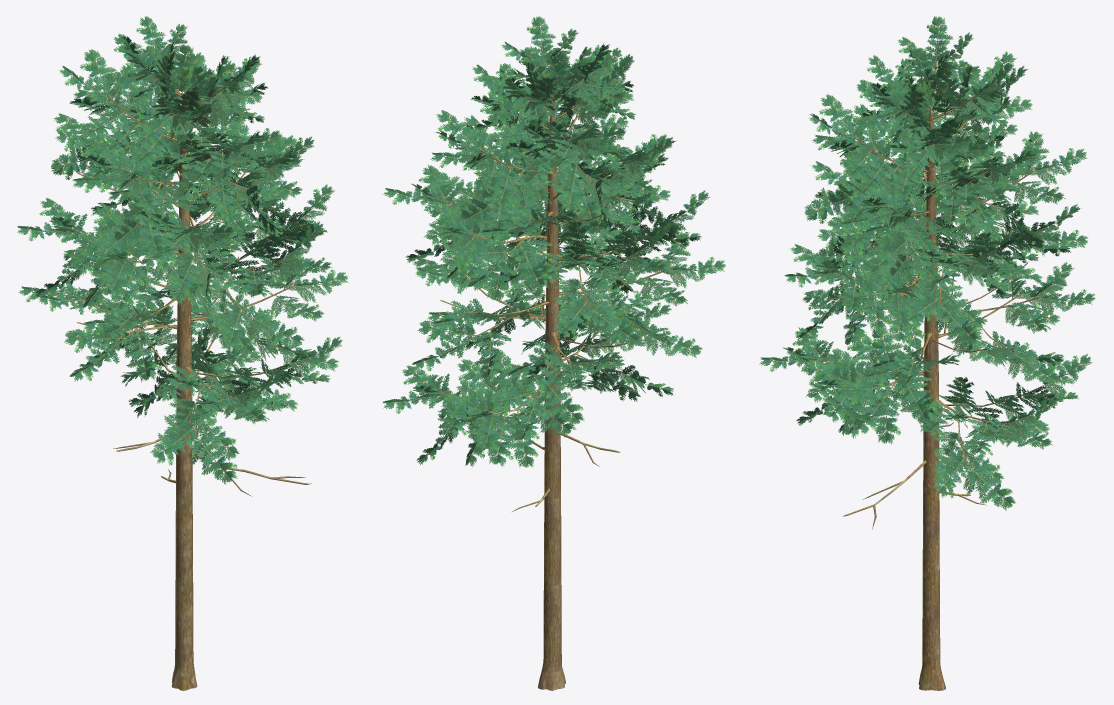
File: MS_ConiferA03.fbx
3 renders of one model, left to right at view 1: azimuth 30°, elevation 25°; view 2: azimuth 150°, elevation 25°; view 3: azimuth 270°, elevation 25°, orthographic. The views are drawn at different scales.
Visible parts, largest first — view 1: MS_ConiferA03; view 2: MS_ConiferA03; view 3: MS_ConiferA03.
Part boxes in pixels (x1,y1,x2,y2): MS_ConiferA03: (17,16,348,690); MS_ConiferA03: (382,16,725,690); MS_ConiferA03: (759,16,1095,690).
Size of the model in its own units: 901 by 1913 by 920.
